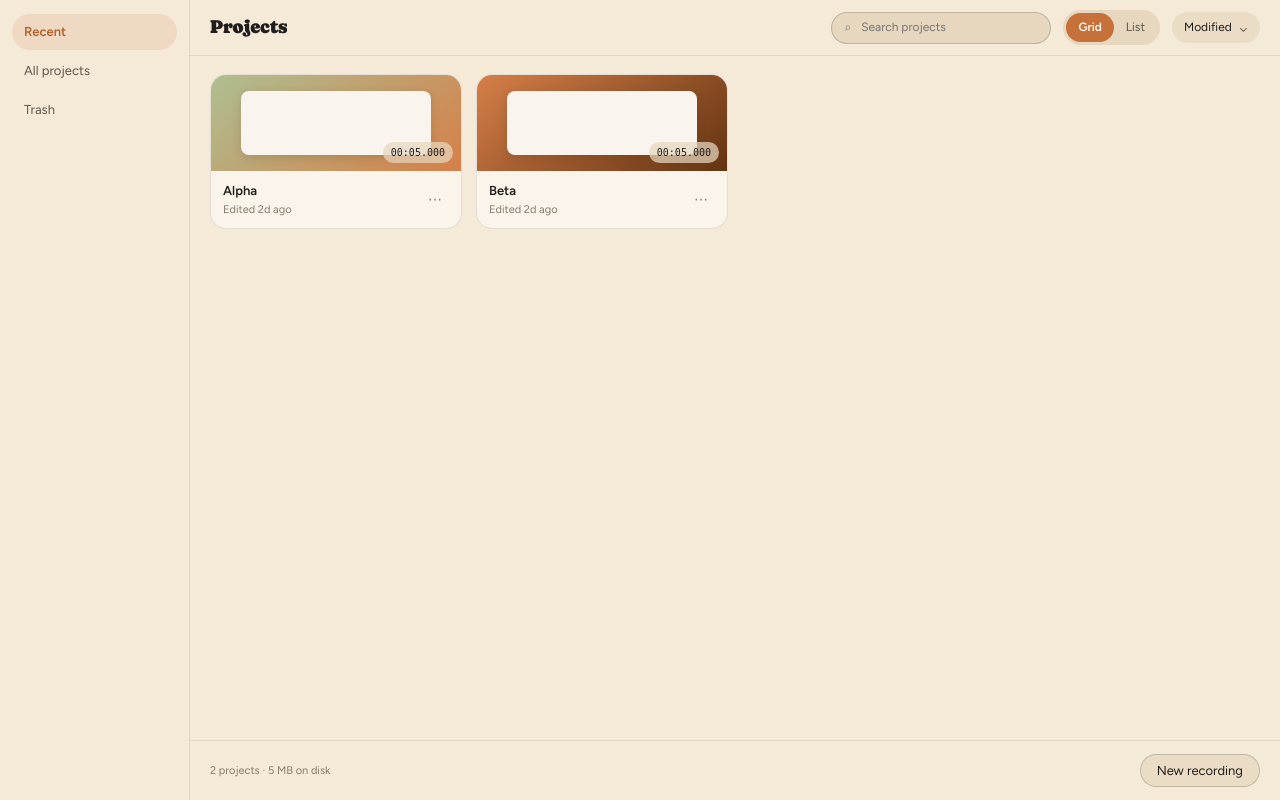
Test: ProjectsContainer: thumbnails and sizes › the list layout shows sizes and the on-disk footer total
Expected: the button with aria-label "Open Alpha" is shown, [210,74,462,229]
Click the radio button labelled "List". click: (1135, 27)
box: [1126,20,1145,34]
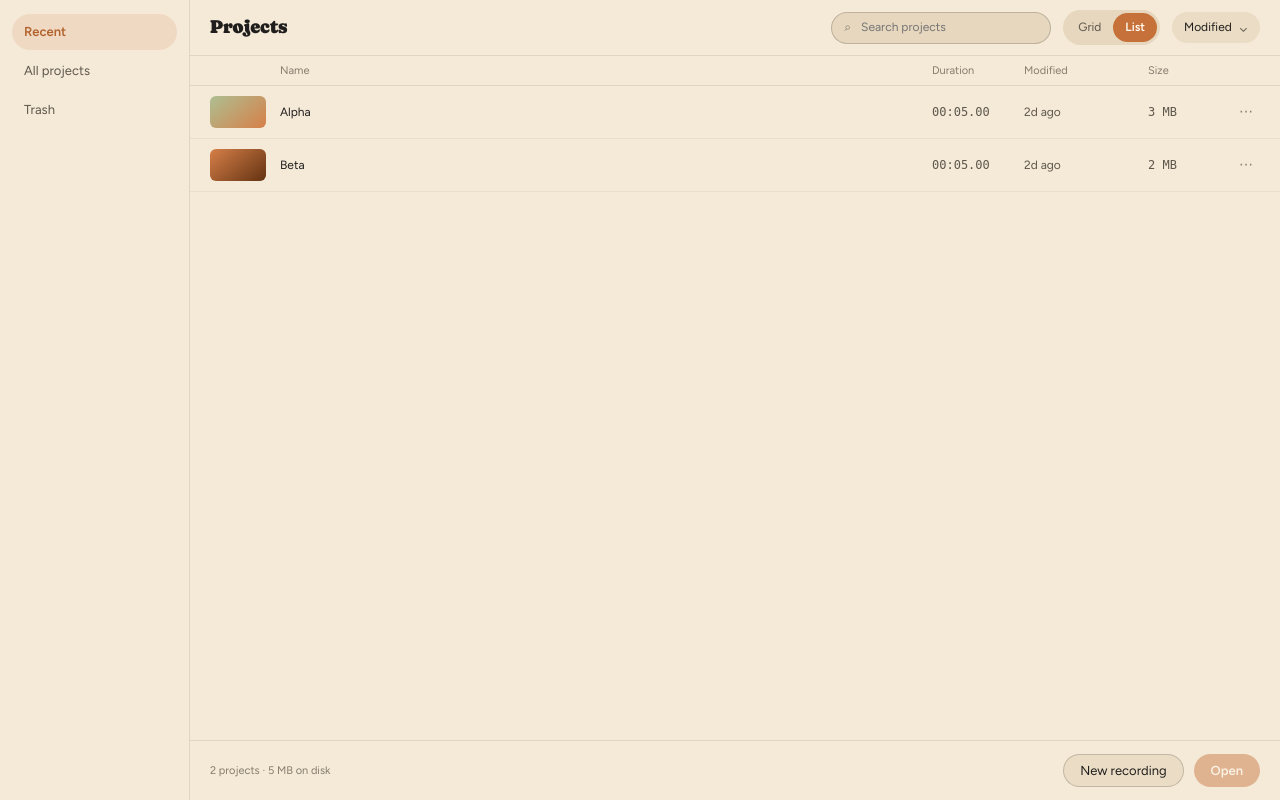
Expected: the text "2 projects · 5 MB on disk" is shown, [210,762,330,779]
Result: the text "3 MB" is shown at [1148,105,1177,119]
